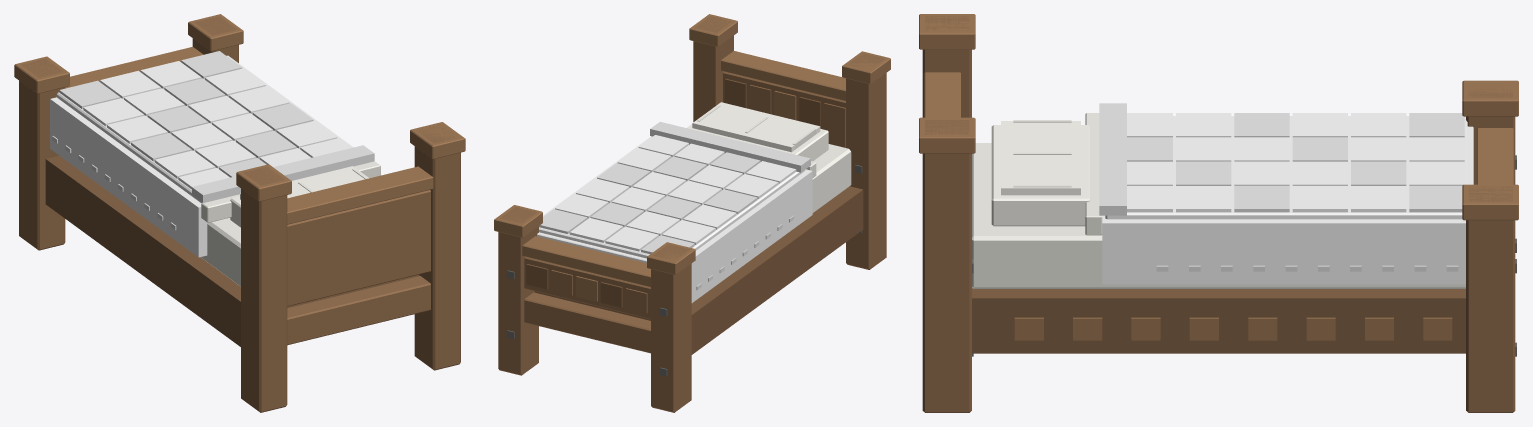
The model's file is spruce_bed.gltf.
3 views of the same model, side by side, from view 1: azimuth 30°, elevation 25°; view 2: azimuth 150°, elevation 25°; view 3: azimuth 270°, elevation 25° (orthographic). The views are drawn at different scales.
Bounding box in the file's own units: 0.954 × 1 × 1.95.
